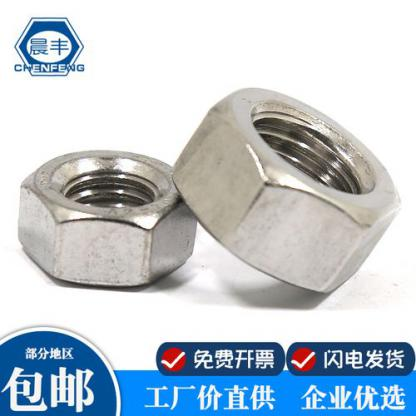FOD: (169, 83, 403, 298), (14, 146, 199, 289)
